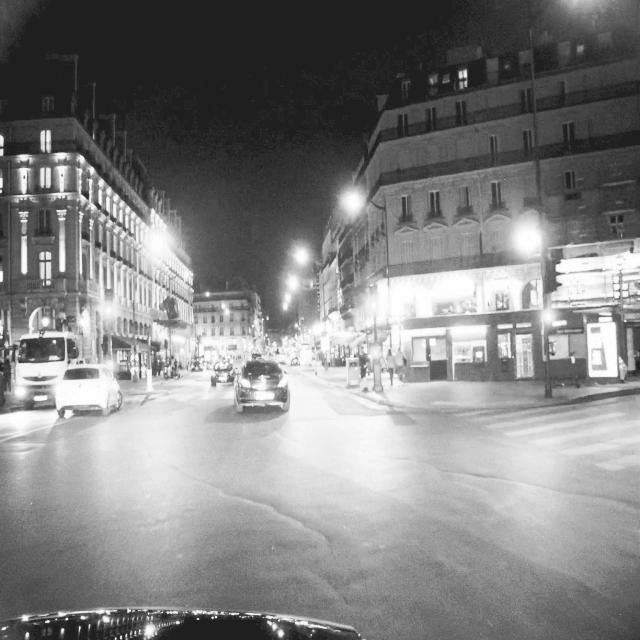Car: (58, 363, 120, 418), (232, 363, 288, 411)
Truck: (15, 329, 86, 410)
